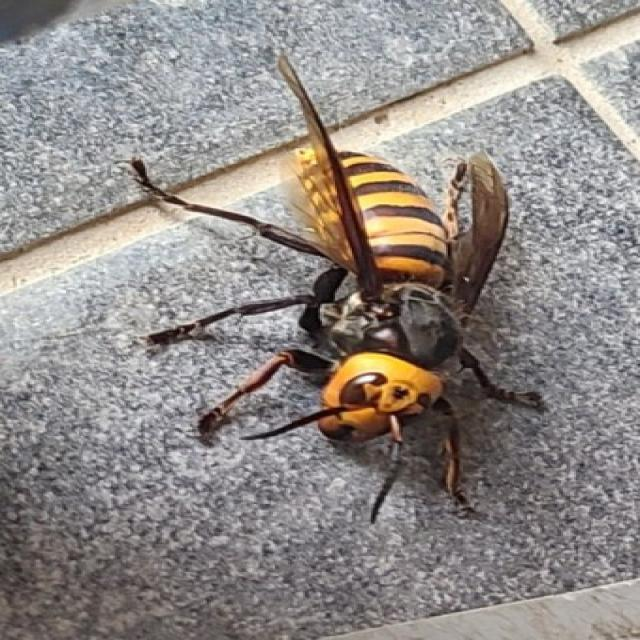Wasp: (140, 46, 550, 528)
